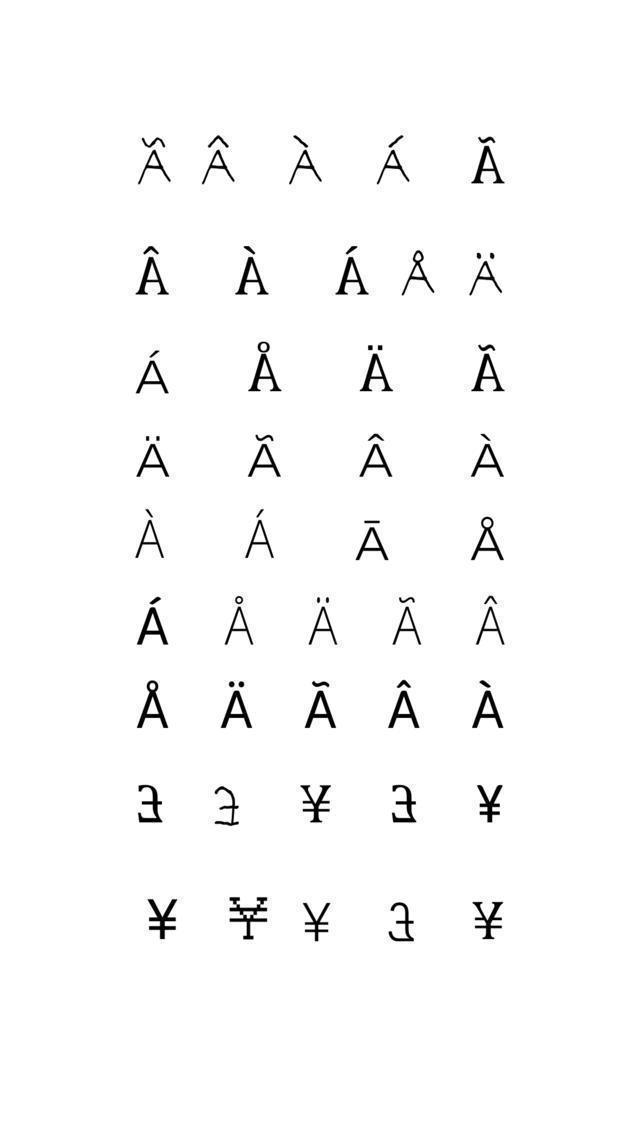ASCII: (458, 129, 522, 192), (274, 128, 333, 194), (297, 672, 353, 736), (468, 586, 522, 652), (235, 499, 288, 565), (342, 512, 400, 572), (132, 669, 178, 744), (128, 240, 180, 306), (225, 239, 276, 306), (464, 334, 512, 404), (126, 429, 182, 489), (352, 334, 399, 405), (240, 422, 288, 491), (326, 236, 374, 304), (462, 244, 516, 304), (128, 342, 182, 402), (131, 500, 181, 564), (246, 334, 292, 402), (462, 672, 509, 738), (466, 426, 516, 488), (218, 592, 266, 655), (380, 678, 428, 740), (215, 674, 261, 738), (133, 587, 178, 652), (223, 886, 270, 948), (130, 132, 178, 192), (370, 134, 418, 193), (192, 132, 240, 191), (465, 889, 513, 948), (350, 432, 398, 490), (397, 246, 443, 306), (304, 586, 346, 651), (467, 510, 513, 568), (140, 889, 184, 949), (386, 588, 426, 652), (378, 776, 428, 826), (468, 780, 511, 830), (294, 775, 333, 830), (206, 778, 243, 834), (130, 779, 170, 829), (381, 894, 418, 946), (298, 896, 332, 949)
